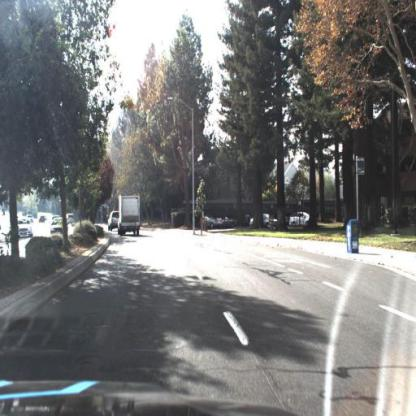car: (285, 207, 318, 230), (247, 211, 281, 232), (47, 215, 70, 245), (285, 210, 312, 232), (49, 215, 72, 239), (201, 210, 223, 234), (15, 217, 36, 241), (106, 208, 121, 235), (219, 209, 238, 230)
truck: (116, 192, 145, 238)
